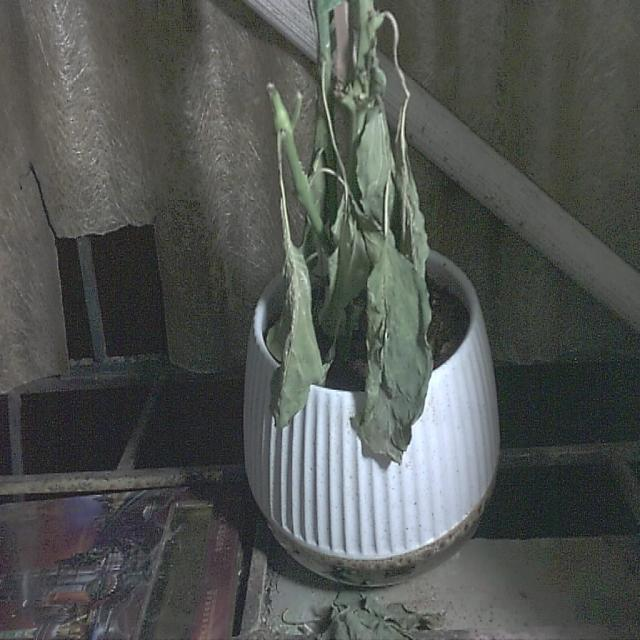Leaf: (356, 242, 431, 467), (268, 245, 325, 428)
